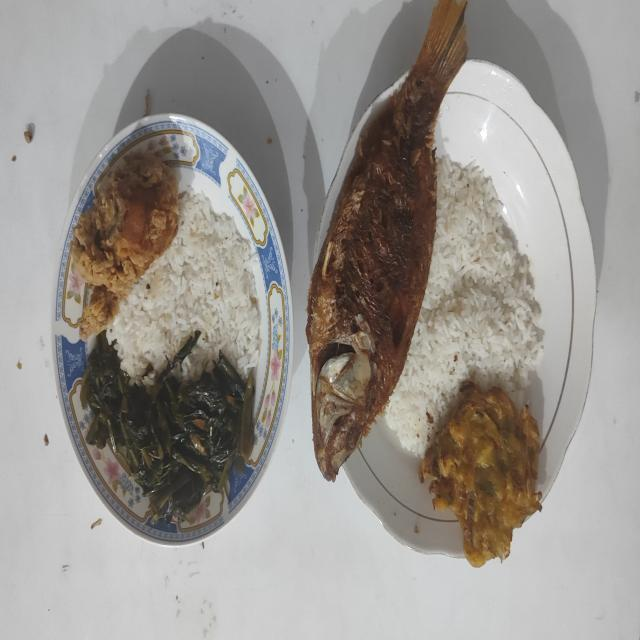ikan_mujair: (306, 0, 468, 481)
nasi_putih: (379, 156, 544, 454), (107, 190, 260, 386)
tumis_kangkung: (80, 331, 254, 524)
